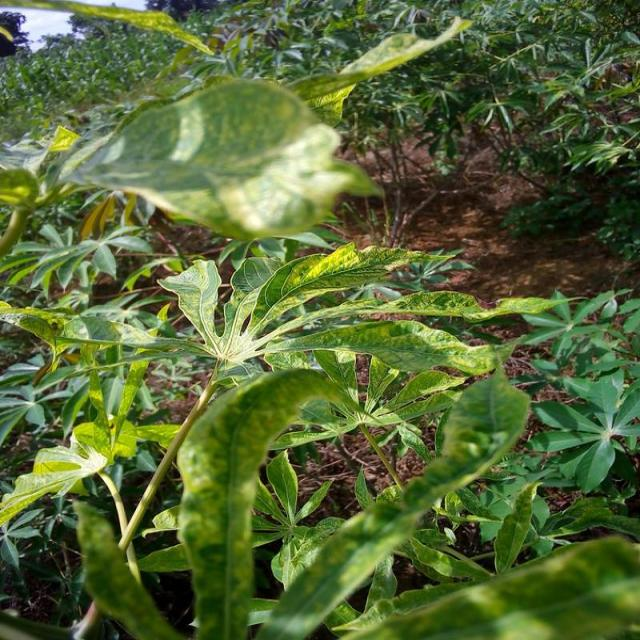cassava leaf: (60, 73, 386, 241), (176, 366, 360, 638)
